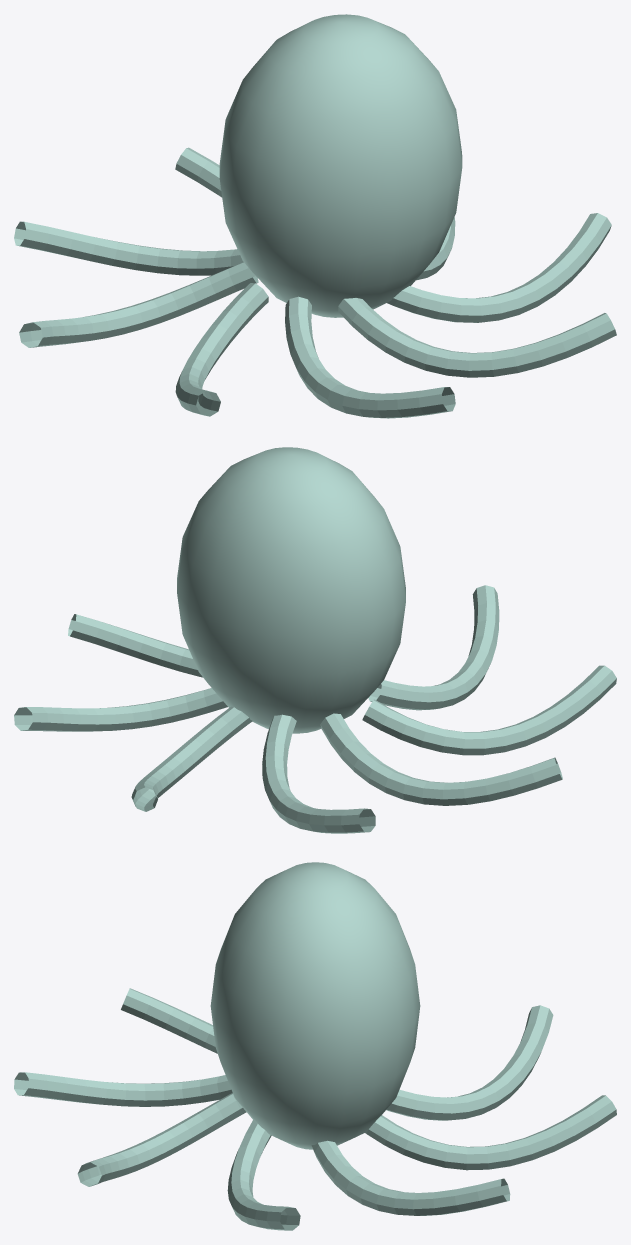
3 renders of one model, top to bottom at view 1: azimuth 30°, elevation 25°; view 2: azimuth 150°, elevation 25°; view 3: azimuth 270°, elevation 25°, orthographic. The views are drawn at different scales.
Parts seen in each view (by area): view 1: Mantle, Arm.006, Arm.007, Arm.003, Arm.005, Arm.002, Arm.004, Arm.001, Arm; view 2: Mantle, Arm.004, Arm.003, Arm, Arm.005, Arm.002, Arm.001, Arm.007; view 3: Mantle, Arm.001, Arm, Arm.005, Arm.002, Arm.006, Arm.007, Arm.004.
Boxes of the visible parts, box(x1,y1,x2,y2) form: Mantle: box(219, 14, 462, 317); Arm.006: box(338, 298, 616, 377); Arm.007: box(386, 213, 611, 322); Arm.003: box(19, 262, 258, 347); Arm.005: box(285, 296, 455, 418); Arm.002: box(14, 221, 243, 275); Arm.004: box(175, 283, 268, 416); Arm.001: box(175, 147, 221, 197); Arm: box(416, 217, 455, 280); Mantle: box(177, 447, 405, 733); Arm.004: box(362, 665, 616, 755); Arm.003: box(320, 713, 562, 805); Arm: box(14, 688, 227, 731); Arm.005: box(368, 585, 499, 710); Arm.002: box(262, 714, 375, 833); Arm.001: box(131, 706, 252, 811); Arm.007: box(68, 614, 202, 677); Mantle: box(210, 862, 420, 1149); Arm.001: box(365, 1095, 616, 1170); Arm: box(311, 1140, 510, 1215); Arm.005: box(14, 1072, 232, 1106); Arm.002: box(386, 1005, 553, 1120); Arm.006: box(77, 1093, 246, 1186); Arm.007: box(227, 1120, 300, 1230); Arm.004: box(121, 988, 217, 1053).
Bounding box in the file's own units: 219 × 111 × 219.
